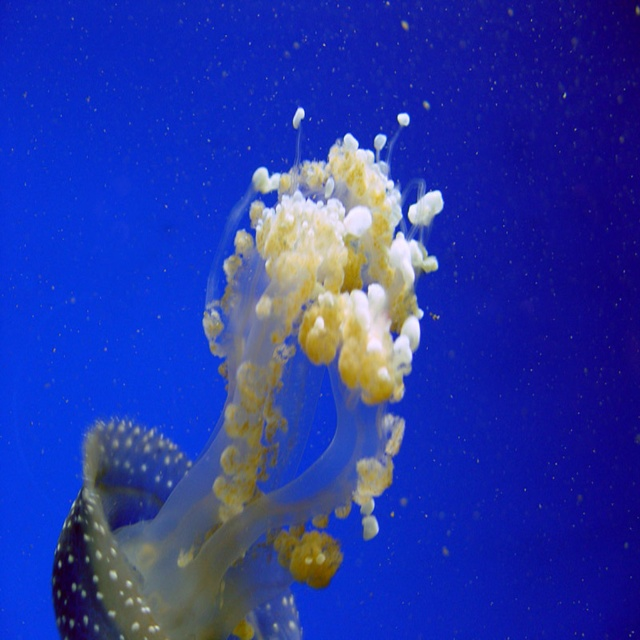Jellyfish: (50, 105, 442, 639)
